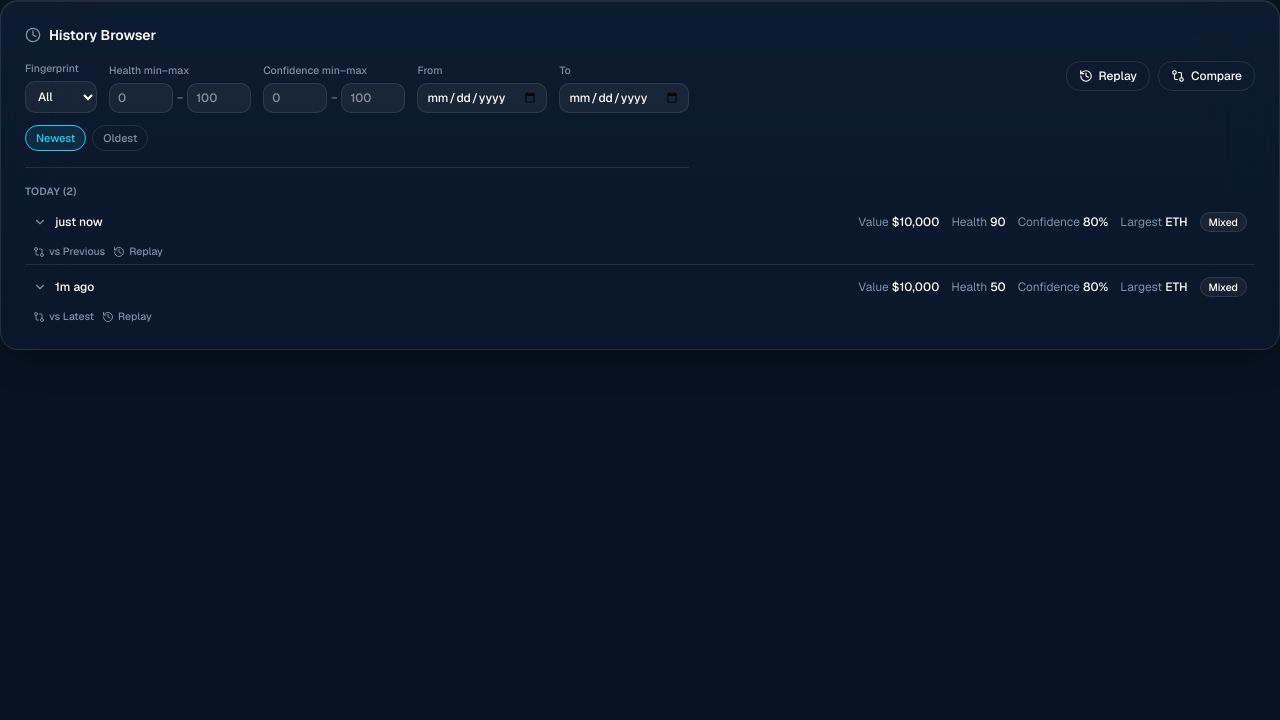
Test: HistoryBrowserSection › only one snapshot is expanded at a time — selecting a different one switches
Click the button "Health 50" at (75, 287), box 25,269 -> 1255,305
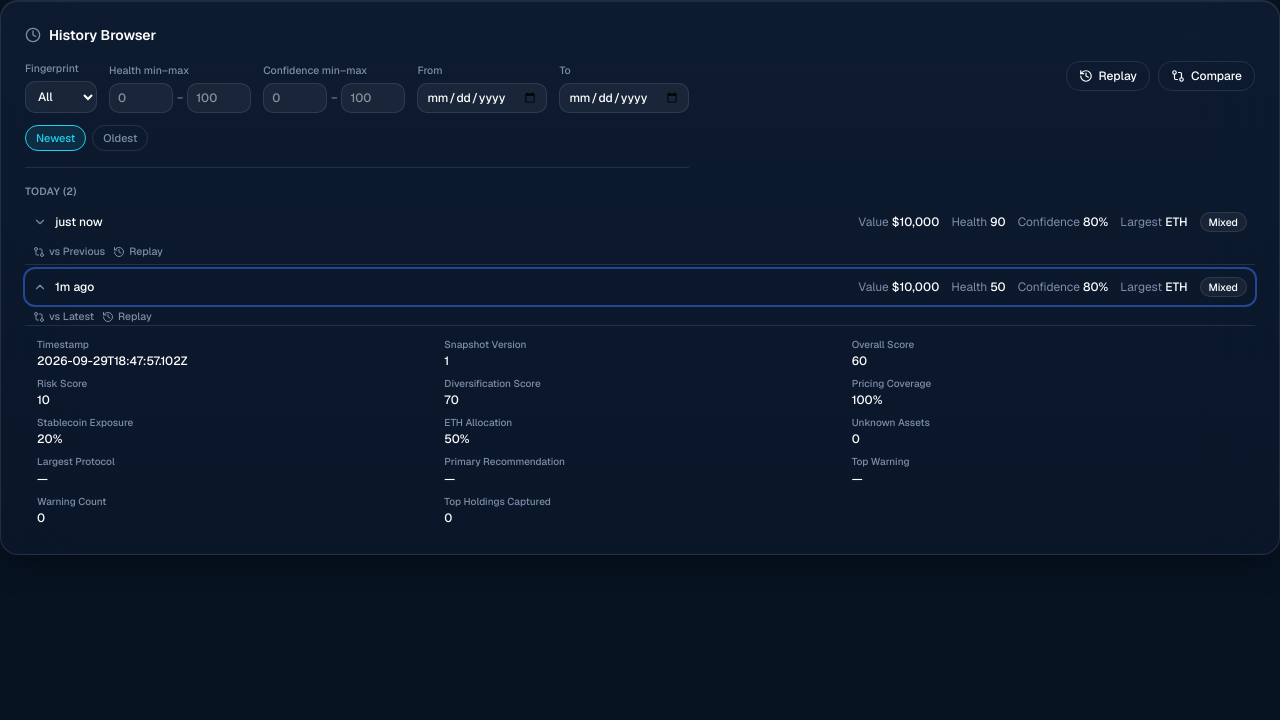
Expected: the button "Health 50" is expanded, 25,269 -> 1255,305
Click the button "Health 90" at (79, 222), box 25,204 -> 1255,240
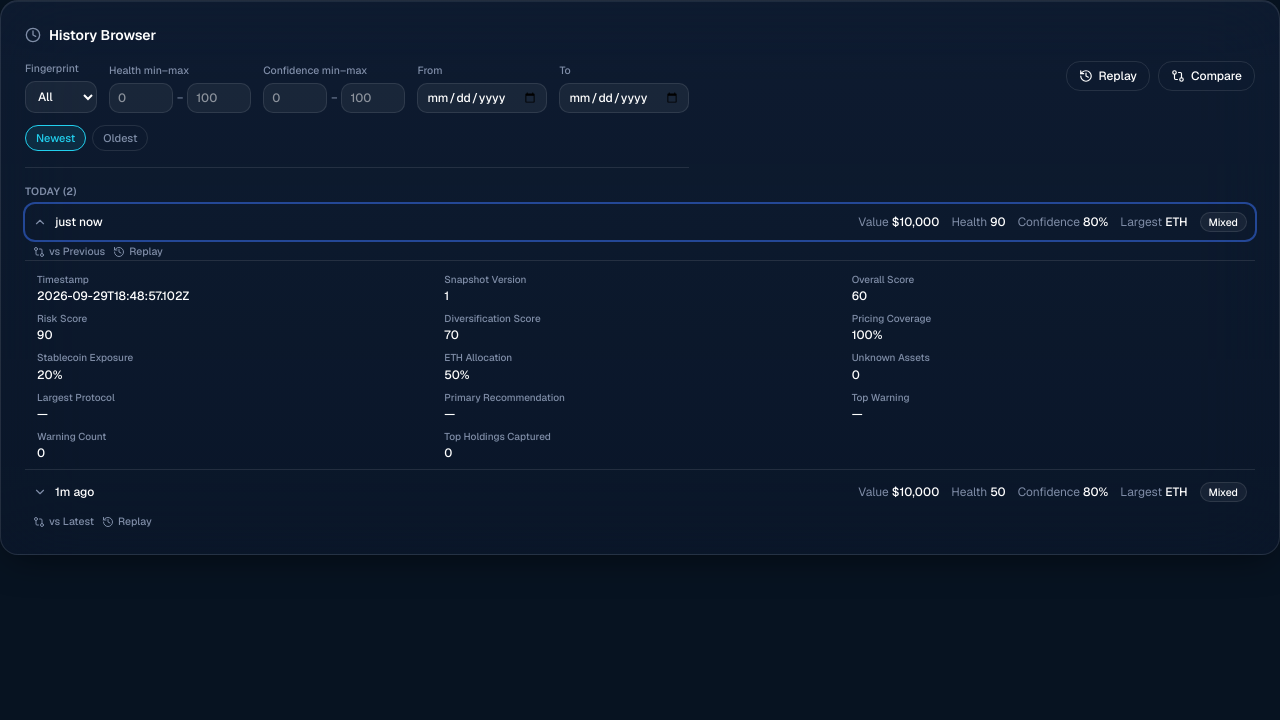
Expected: the button "Health 50" is collapsed, 25,474 -> 1255,510
Expected: the button "Health 90" is expanded, 25,204 -> 1255,240
